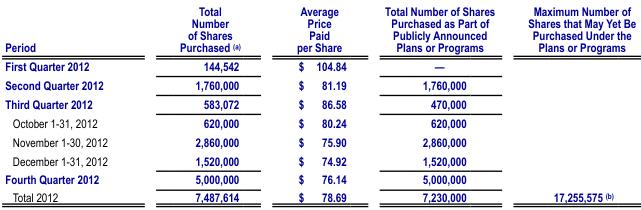table: (4, 4, 635, 203)
table column: (364, 4, 510, 203), (4, 4, 143, 203), (510, 4, 635, 203), (143, 4, 267, 203), (267, 4, 364, 203)
table column header: (4, 4, 635, 56)
table row: (4, 4, 635, 56), (4, 74, 635, 93), (4, 93, 635, 112), (4, 112, 635, 131), (4, 131, 635, 150), (4, 150, 635, 169), (4, 56, 635, 74), (4, 169, 635, 187), (4, 187, 635, 203)
